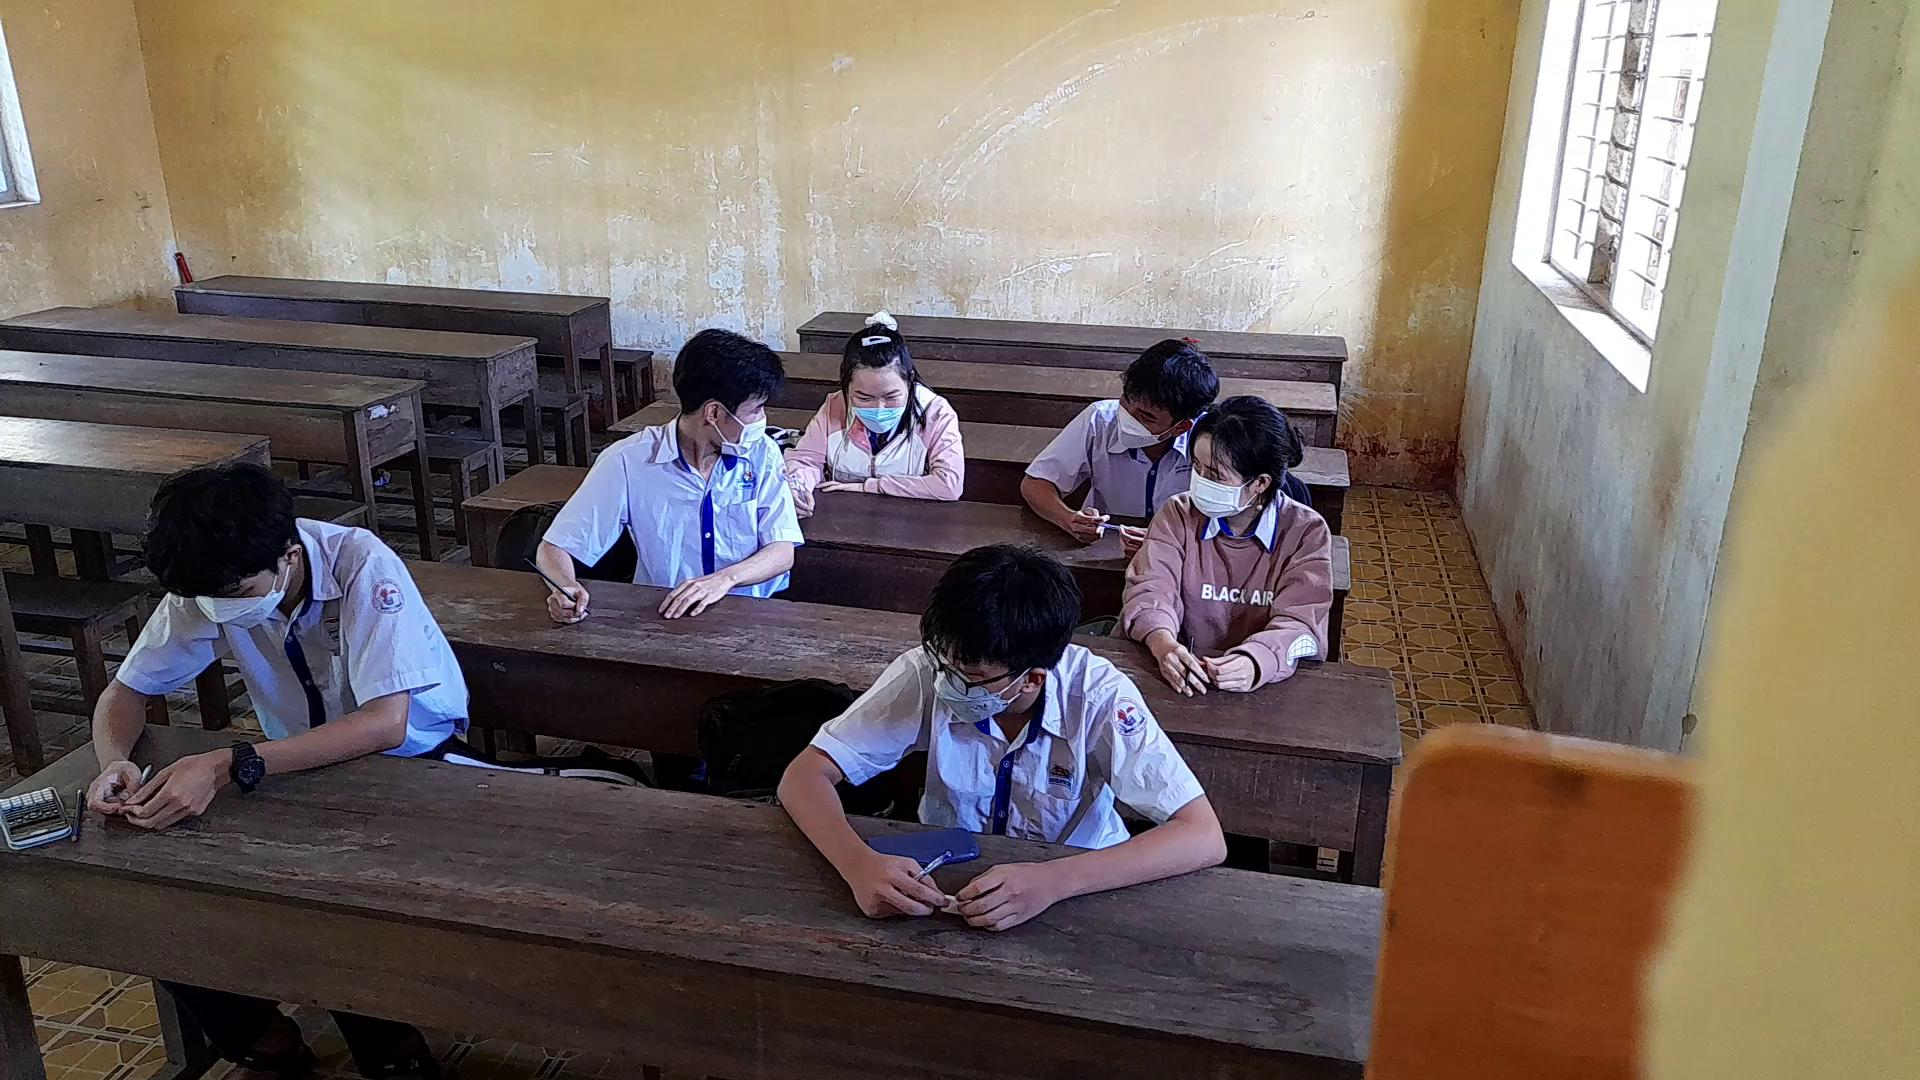Look Around: (919, 534, 1085, 731), (1185, 393, 1304, 549), (1101, 319, 1220, 473), (669, 316, 786, 471)
Normal: (84, 452, 477, 844), (796, 293, 989, 514)
